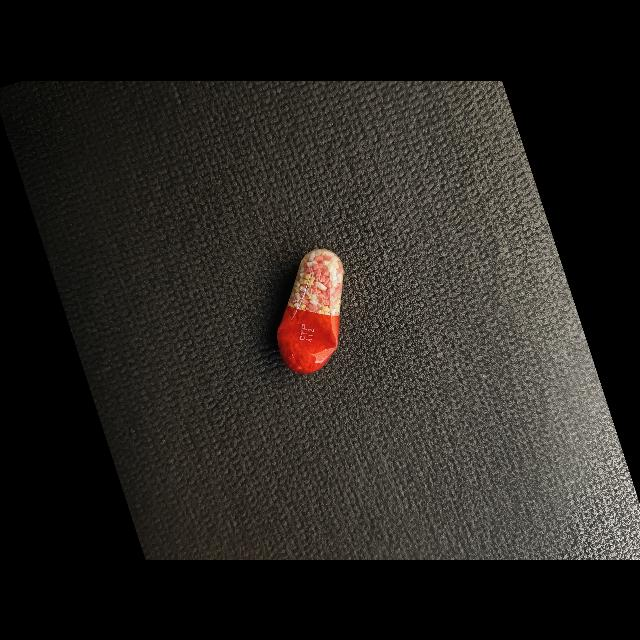Defective Capsule: (277, 248, 344, 373)
